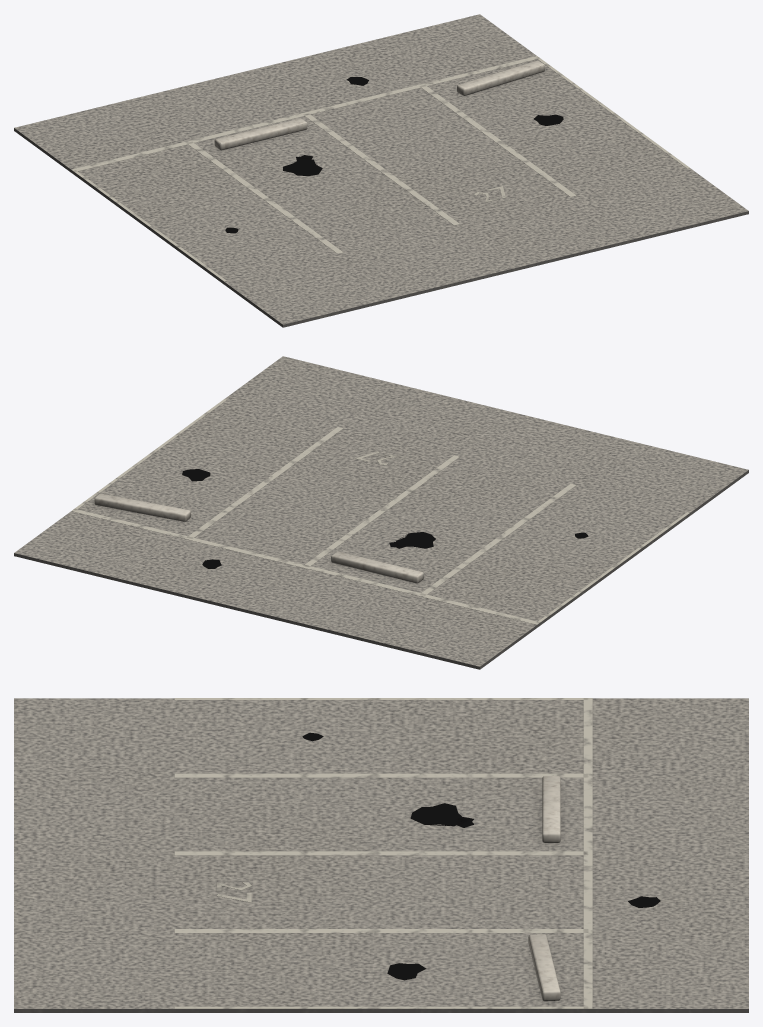
File: parking_tile.fbx
The picture shows the model from 3 angles, top to bottom: view 1: azimuth 30°, elevation 25°; view 2: azimuth 150°, elevation 25°; view 3: azimuth 270°, elevation 25°; orthographic projection. The views are drawn at different scales.
Parts seen in each view (by area): view 1: Body; view 2: Body; view 3: Body.
Part boxes in pixels (x1=…): Body: x1=14, y1=14, x2=748, y2=327; Body: x1=14, y1=356, x2=748, y2=669; Body: x1=14, y1=698, x2=748, y2=1012.
Size of the model in its own units: 32 by 0.7 by 32.
1 material, 1 textured.
